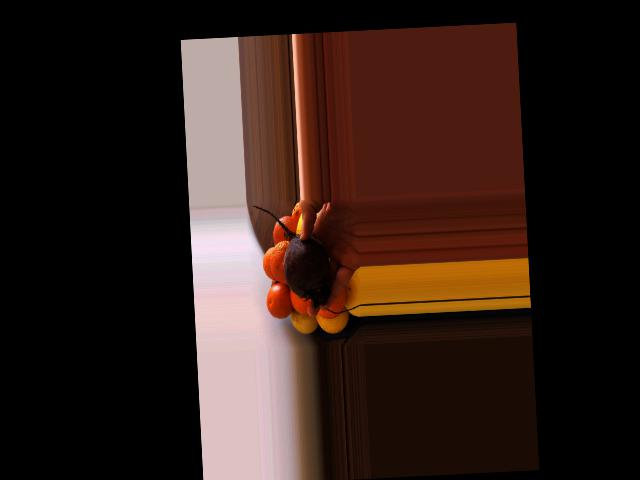beet: (253, 202, 331, 309)
